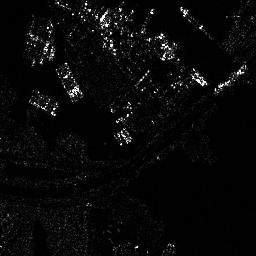ship: (53, 61, 83, 104), (212, 63, 248, 95), (27, 88, 59, 116)
